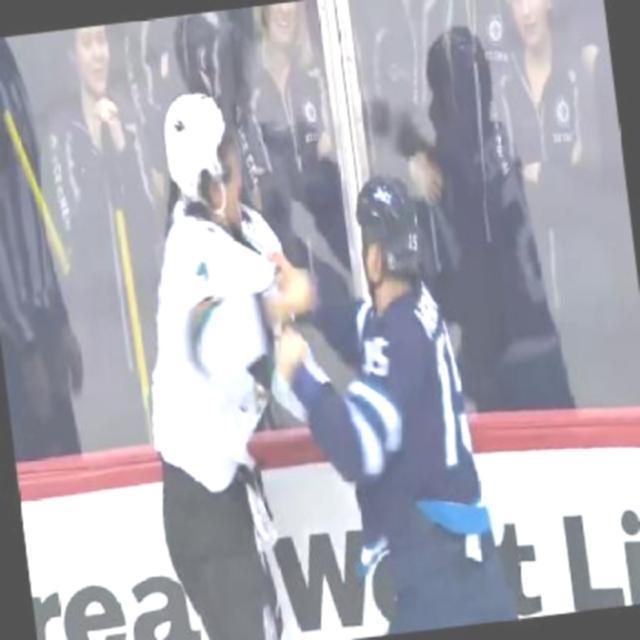fight: (103, 47, 514, 638)
